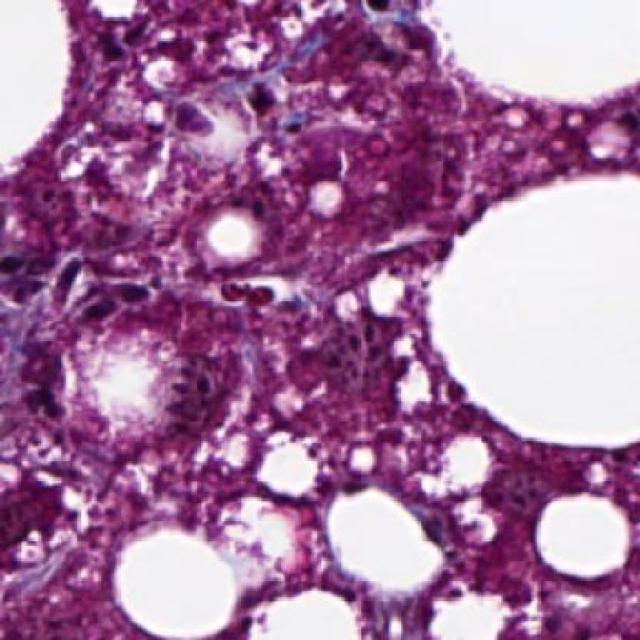inflammation: (43, 246, 162, 330), (46, 251, 159, 331), (14, 343, 74, 423), (224, 71, 296, 122), (208, 272, 288, 316), (210, 274, 284, 317)
